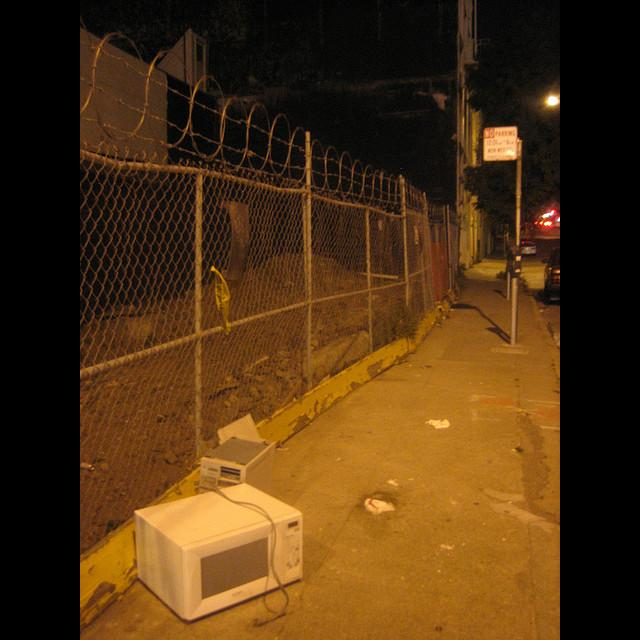Microwave: (135, 484, 307, 623)
